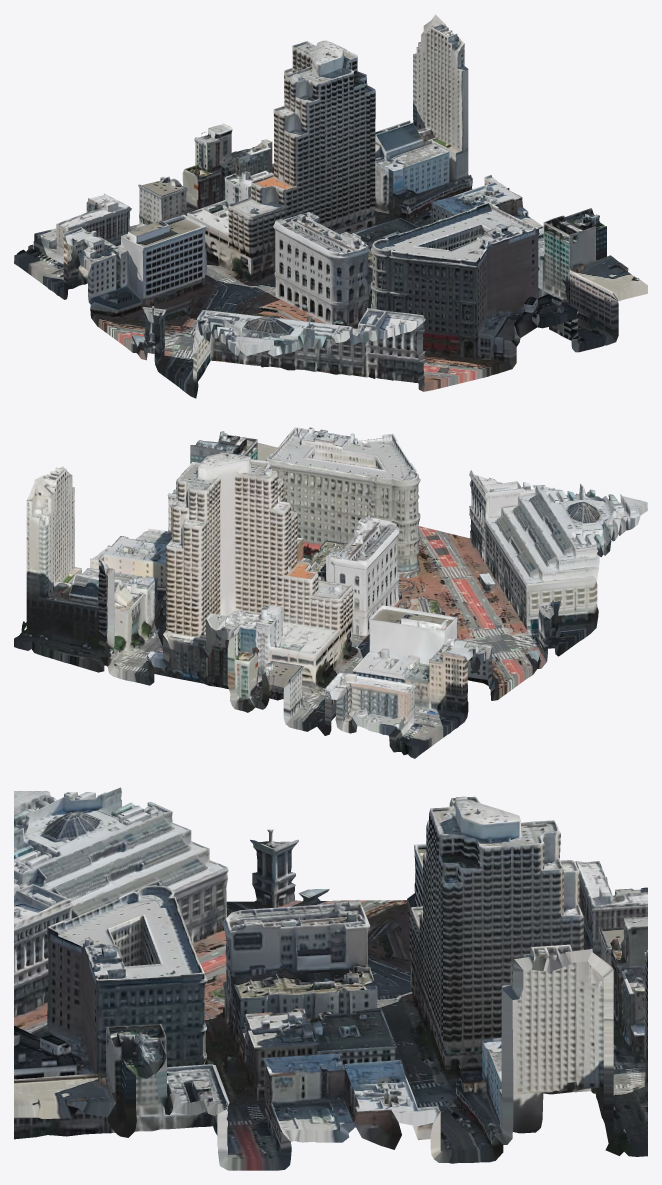
The model's file is z17-20968-50657-h0-yup-uvflip-v3-world.glb.
3 renders of one model, top to bottom at view 1: azimuth 30°, elevation 25°; view 2: azimuth 150°, elevation 25°; view 3: azimuth 270°, elevation 25°, orthographic. The views are drawn at different scales.
Size of the model in its own units: 242 by 115 by 243.
Materials: 1 (1 with a texture image).
